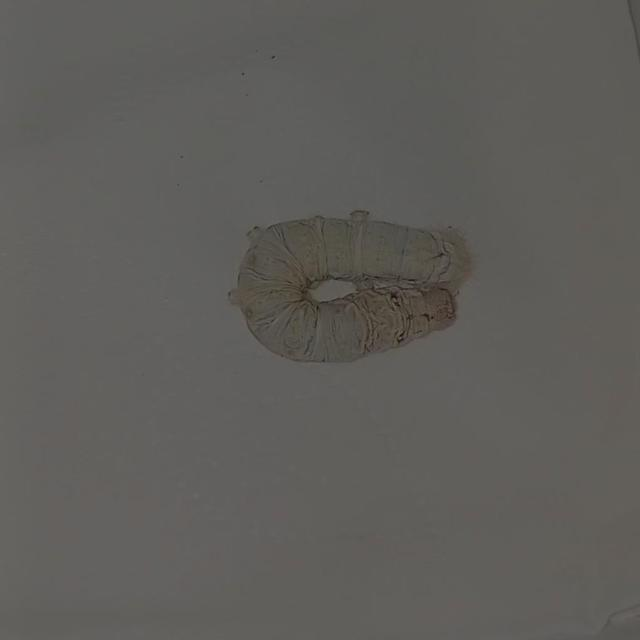Healthy: (212, 174, 487, 380)
